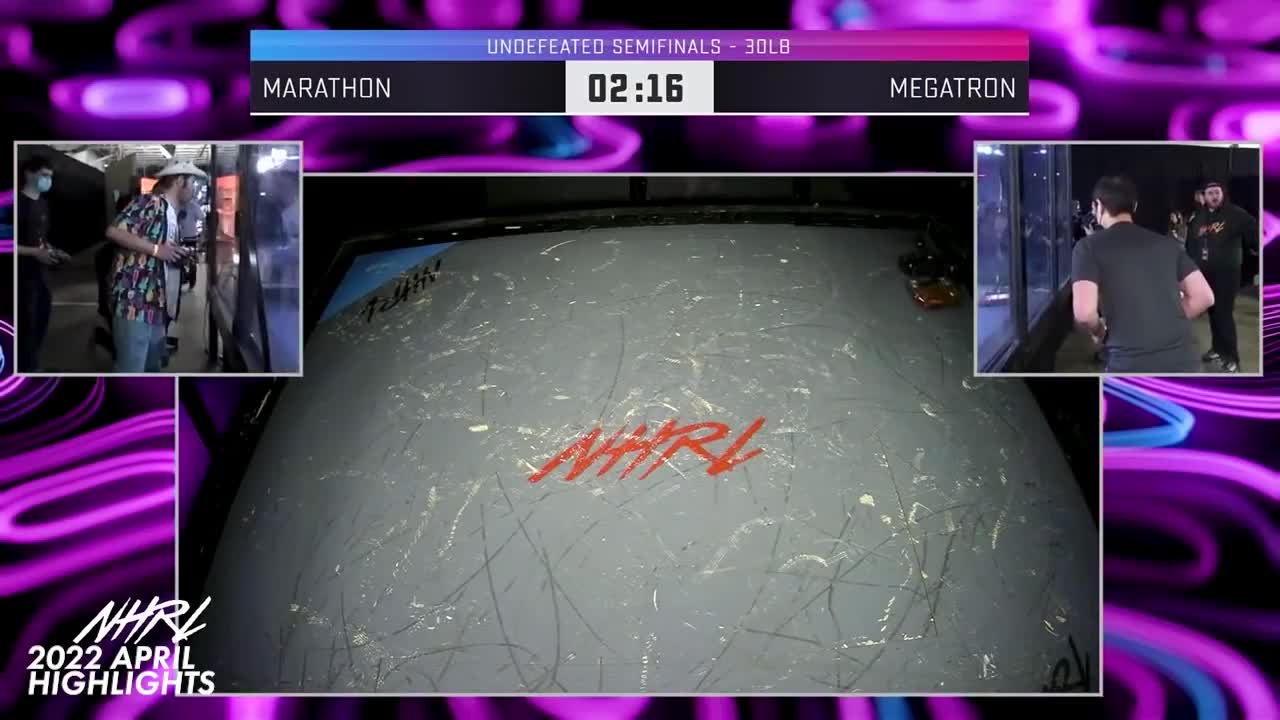combatbot: (898, 215, 970, 311)
